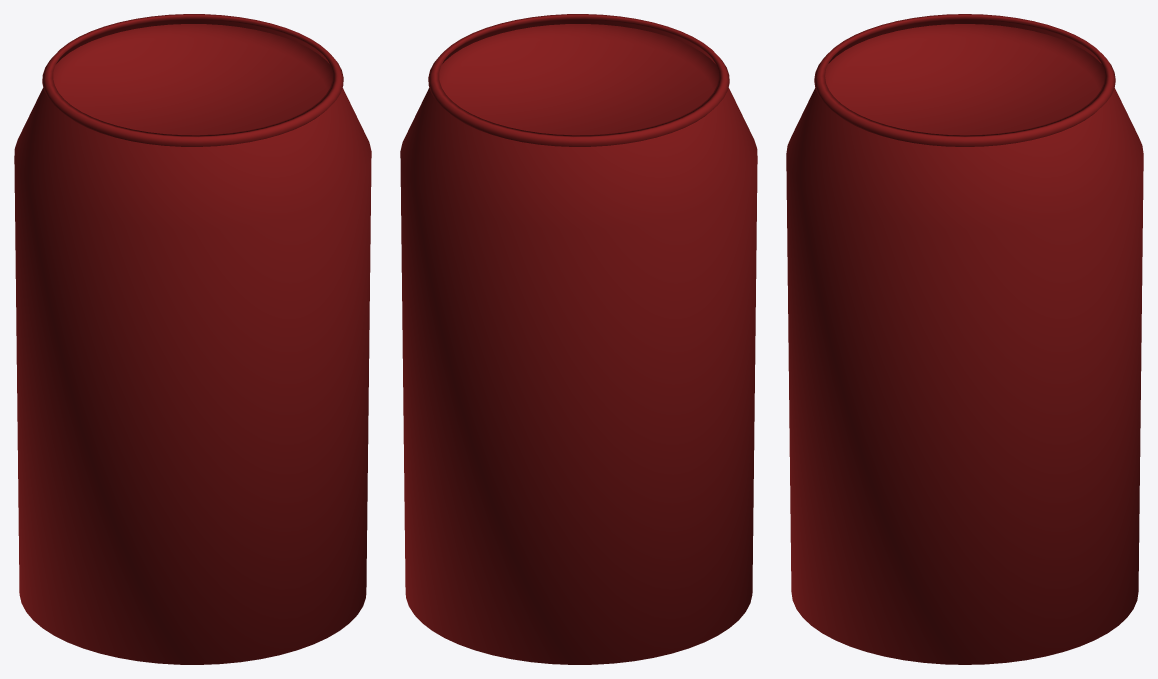
The model's file is CokeCan.fbx.
3 views of the same model, side by side, from view 1: azimuth 30°, elevation 25°; view 2: azimuth 150°, elevation 25°; view 3: azimuth 270°, elevation 25° (orthographic).
Parts seen in each view (by area): view 1: Cylinder; view 2: Cylinder; view 3: Cylinder.
Boxes of the visible parts, left/top/right/bottom form: Cylinder: left=14, top=14, right=371, bottom=664; Cylinder: left=400, top=14, right=757, bottom=664; Cylinder: left=786, top=14, right=1143, bottom=664.
Bounding box in the file's own units: 23.36 × 37.18 × 23.36.
